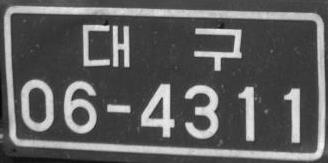0: (20, 77, 54, 131)
1: (230, 85, 265, 141), (277, 87, 309, 145)
3: (183, 83, 218, 140)
4: (141, 82, 175, 138)
6: (63, 79, 97, 133)
대구_D: (81, 22, 243, 73)
